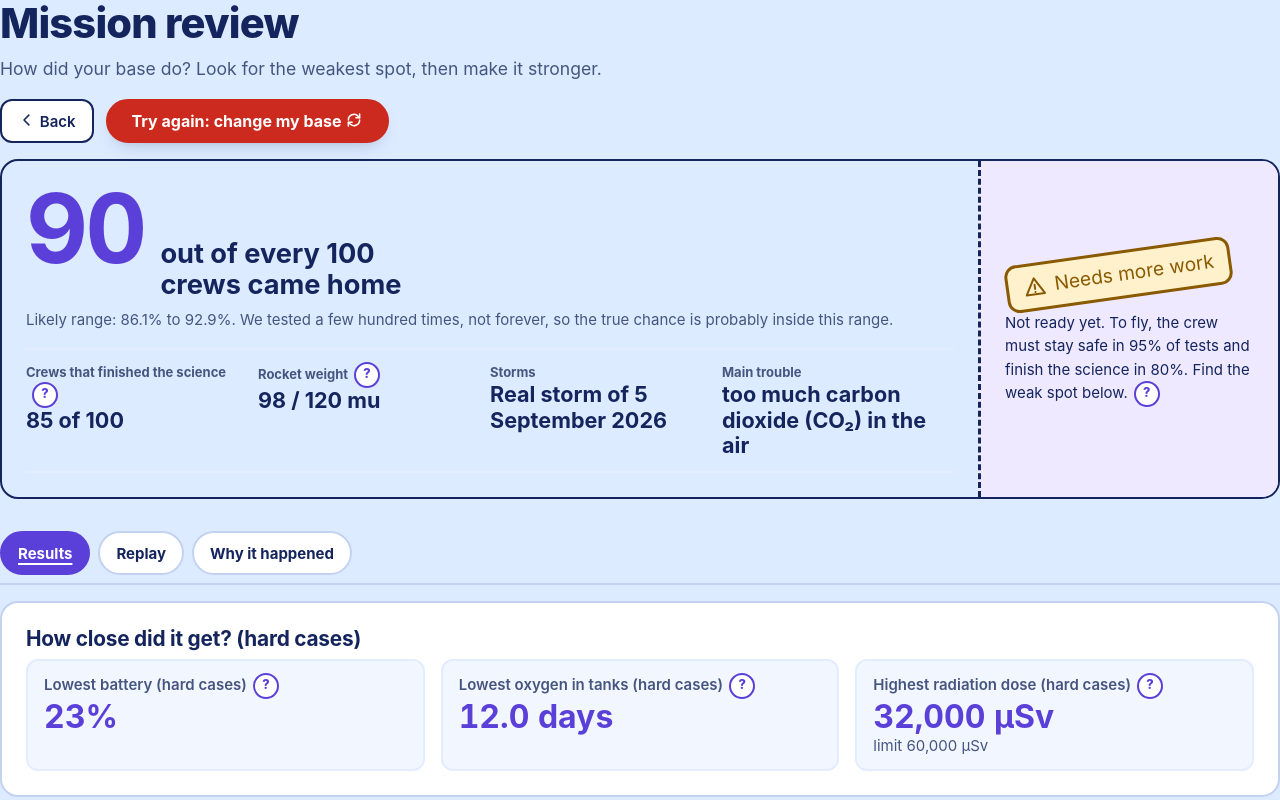
ReviewScreen (L7 AC2-AC7) › AC6: "Why this number?" opens the param entry
Click the button named "Why this number" at (45, 395), box [32,382,58,408]
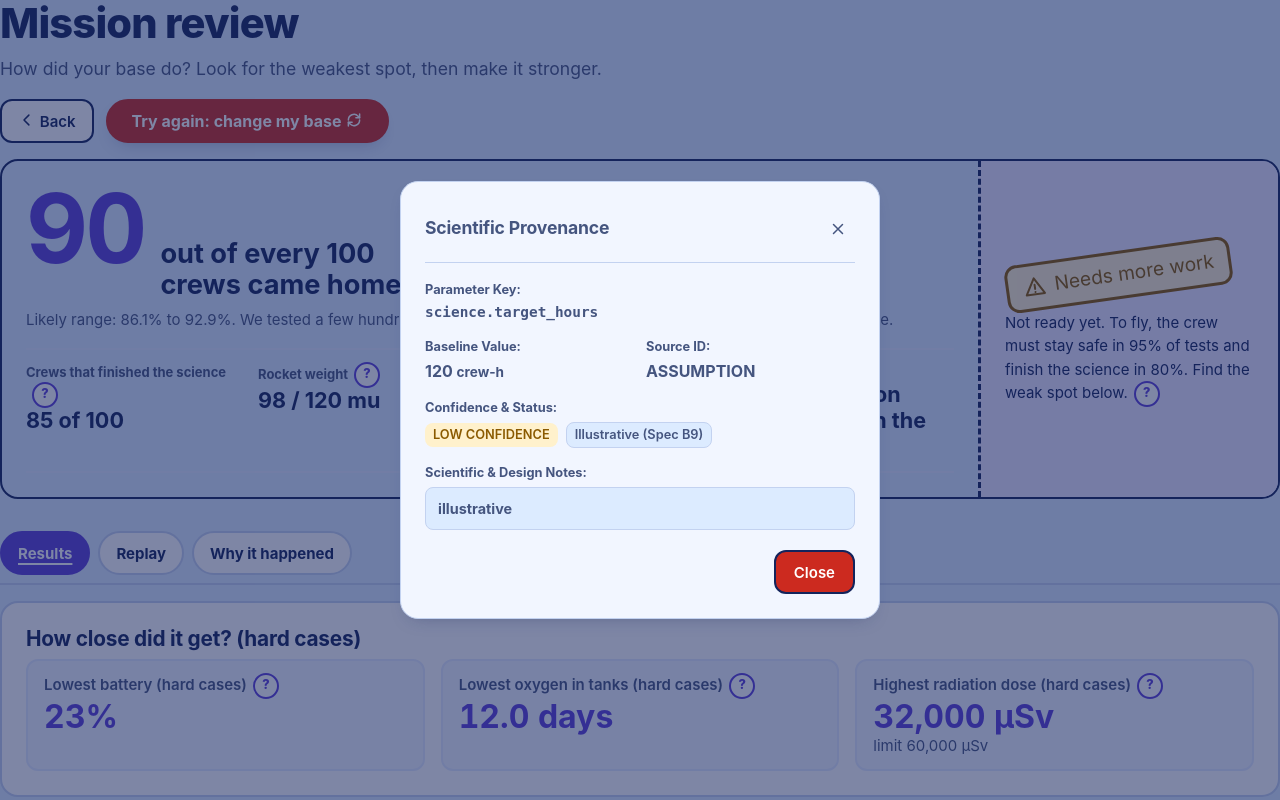
Expected: the dialog is shown
